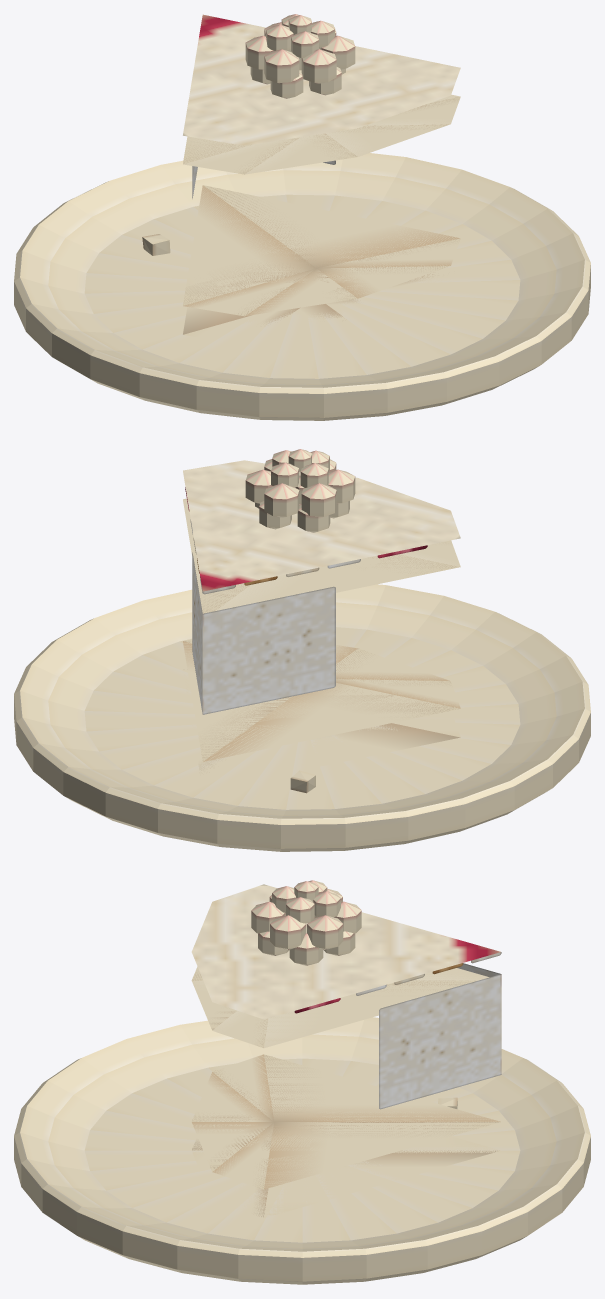
Rendered from dessert_familiar.obj.
3 renders of one model, top to bottom at view 1: azimuth 30°, elevation 25°; view 2: azimuth 150°, elevation 25°; view 3: azimuth 270°, elevation 25°, orthographic.
Size of the model in its own units: 1.2 by 0.6562 by 1.2.
